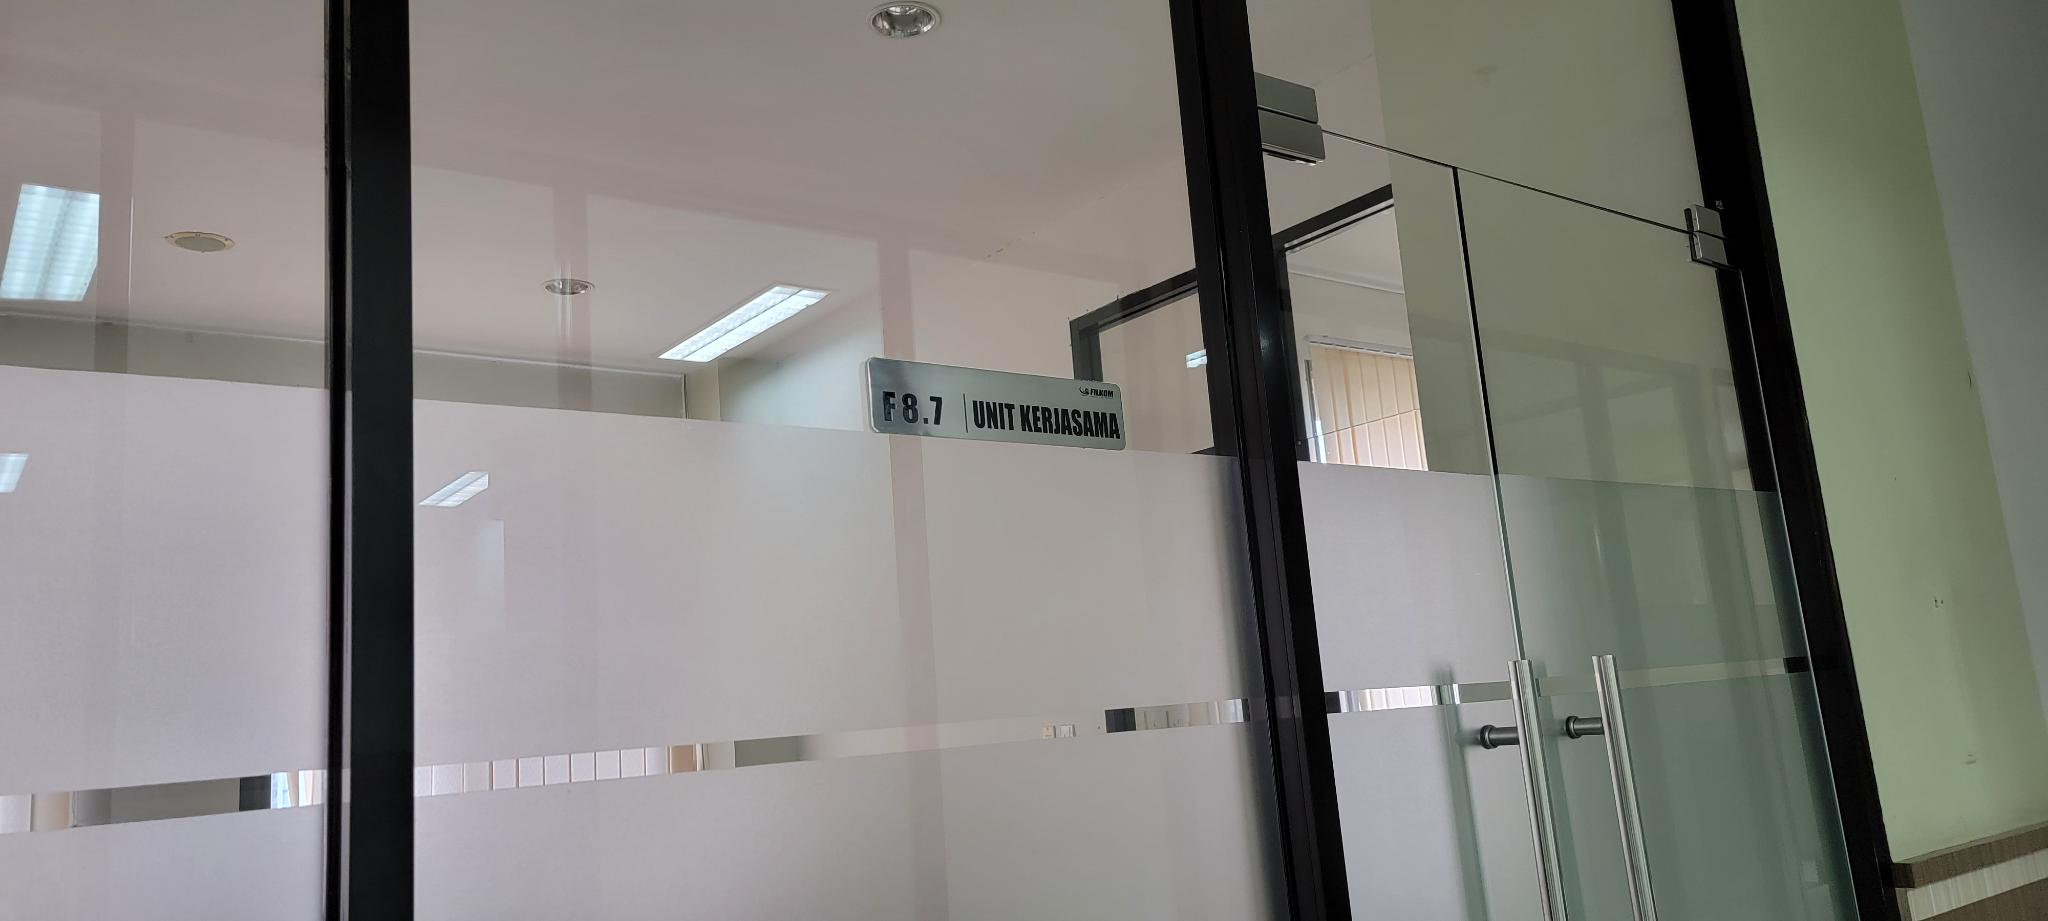plate: (867, 358, 1126, 452)
